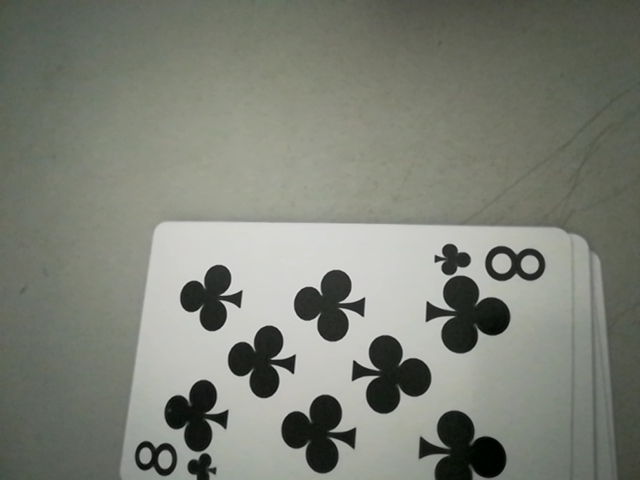mh 8: (432, 237, 551, 285), (131, 438, 212, 480)
